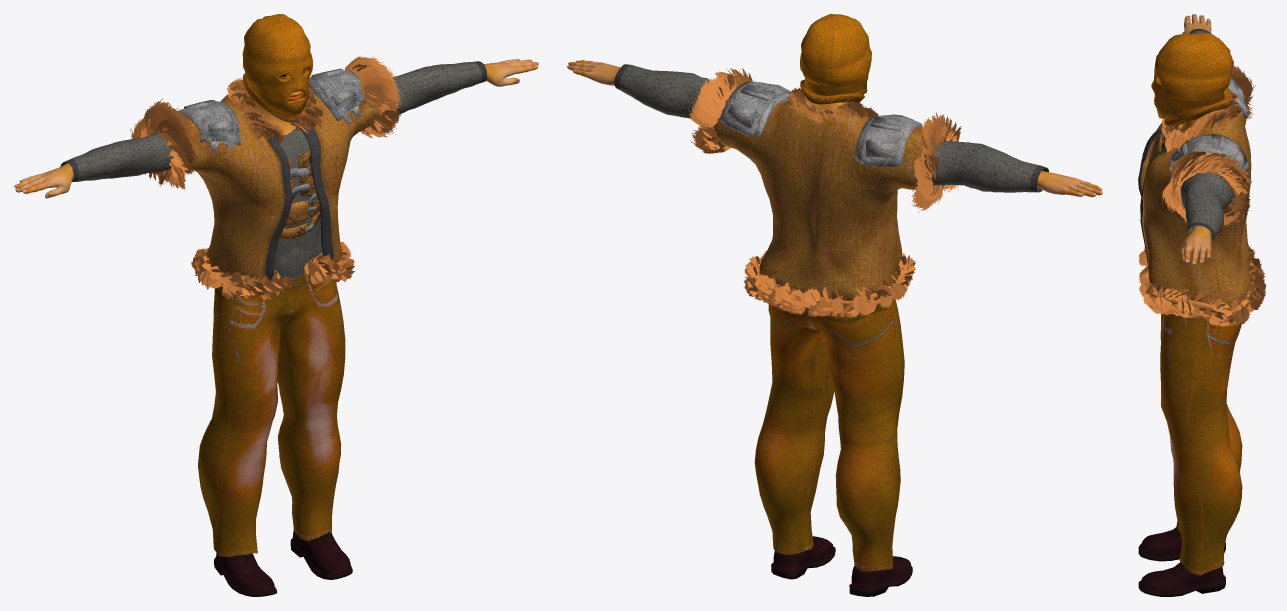
The model's file is musculosocapucha_final.fbx.
3 renders of one model, left to right at view 1: azimuth 30°, elevation 25°; view 2: azimuth 150°, elevation 25°; view 3: azimuth 270°, elevation 25°, orthographic. The views are drawn at different scales.
Parts seen in each view (by area): view 1: cuerpo, antifaz, pelo; view 2: cuerpo, antifaz, pelo; view 3: cuerpo, antifaz, pelo.
Boxes of the visible parts, box(x1,y1,x2,y2) form: cuerpo: box(14, 59, 538, 596); antifaz: box(177, 14, 380, 281); pelo: box(130, 56, 403, 300); cuerpo: box(567, 60, 1102, 596); antifaz: box(713, 14, 926, 300); pelo: box(688, 68, 961, 318); cuerpo: box(1138, 14, 1242, 596); antifaz: box(1138, 33, 1251, 307); pelo: box(1138, 55, 1266, 326).
Size of the model in its own units: 169 by 170 by 40.72.
